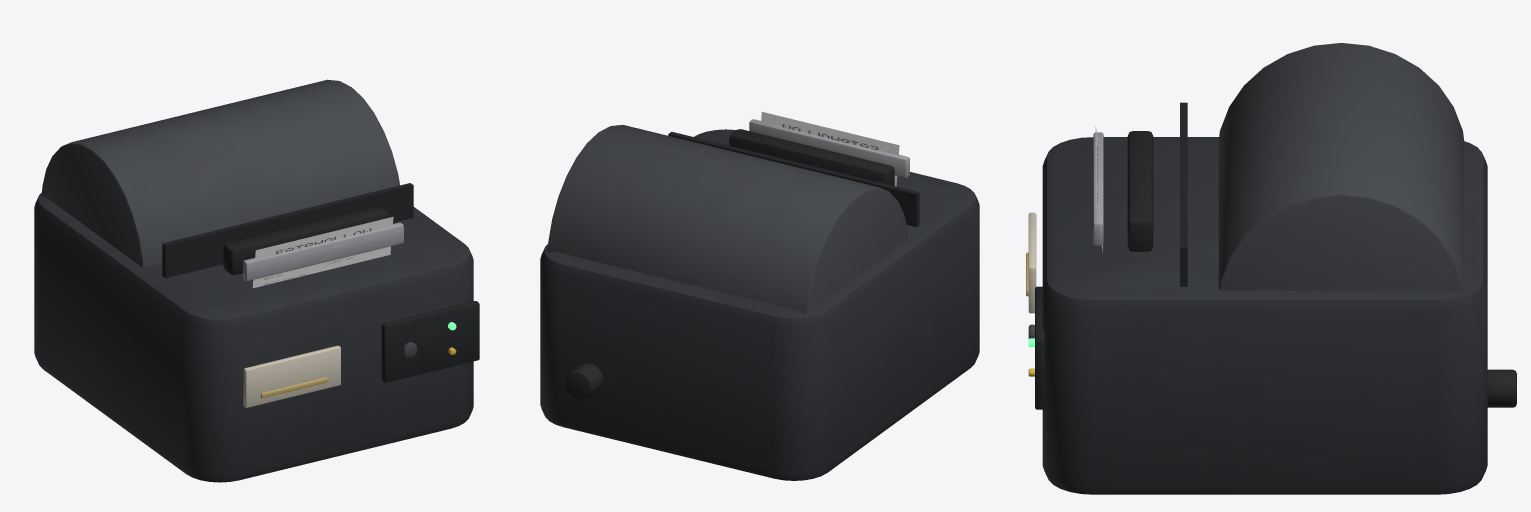
The model's file is receipt_printer.glb.
The picture shows the model from 3 angles, left to right: view 1: azimuth 30°, elevation 25°; view 2: azimuth 150°, elevation 25°; view 3: azimuth 270°, elevation 25°; orthographic projection. The views are drawn at different scales.
Parts seen in each view (by area): view 1: Printer_Body, Printer_Cover, p_coverseam, p_panel, Printer_BrandPlate, p_tearlip, Printer_OutputSlot, Receipt_Paper; view 2: Printer_Body, Printer_Cover, Printer_OutputSlot, p_tearlip, p_coverseam, Receipt_Paper, p_cableboss; view 3: Printer_Body, Printer_Cover, Printer_OutputSlot, p_coverseam, p_tearlip, p_cableboss, p_panel, Printer_BrandPlate.
Boxes of the visible parts, left/top/right/bottom form: Printer_Body: left=34, top=192, right=473, bottom=482; Printer_Cover: left=41, top=79, right=399, bottom=267; p_coverseam: left=162, top=183, right=413, bottom=278; p_panel: left=381, top=301, right=479, bottom=382; Printer_BrandPlate: left=243, top=345, right=340, bottom=407; p_tearlip: left=243, top=222, right=403, bottom=280; Printer_OutputSlot: left=223, top=206, right=388, bottom=274; Receipt_Paper: left=252, top=216, right=393, bottom=288; Printer_Body: left=540, top=129, right=979, bottom=480; Printer_Cover: left=547, top=125, right=908, bottom=314; Printer_OutputSlot: left=729, top=129, right=894, bottom=185; p_tearlip: left=749, top=119, right=909, bottom=177; p_coverseam: left=668, top=131, right=919, bottom=226; Receipt_Paper: left=761, top=112, right=899, bottom=186; p_cableboss: left=565, top=363, right=603, bottom=399; Printer_Body: left=1042, top=137, right=1487, bottom=494; Printer_Cover: left=1218, top=43, right=1464, bottom=293; Printer_OutputSlot: left=1127, top=131, right=1153, bottom=251; p_coverseam: left=1180, top=102, right=1187, bottom=286; p_tearlip: left=1093, top=132, right=1103, bottom=245; p_cableboss: left=1487, top=369, right=1516, bottom=407; p_panel: left=1035, top=286, right=1044, bottom=409; Printer_BrandPlate: left=1028, top=212, right=1036, bottom=313.
Size of the model in its own units: 0.155 by 0.14 by 0.193.
Materials: 11 (6 with a texture image).
